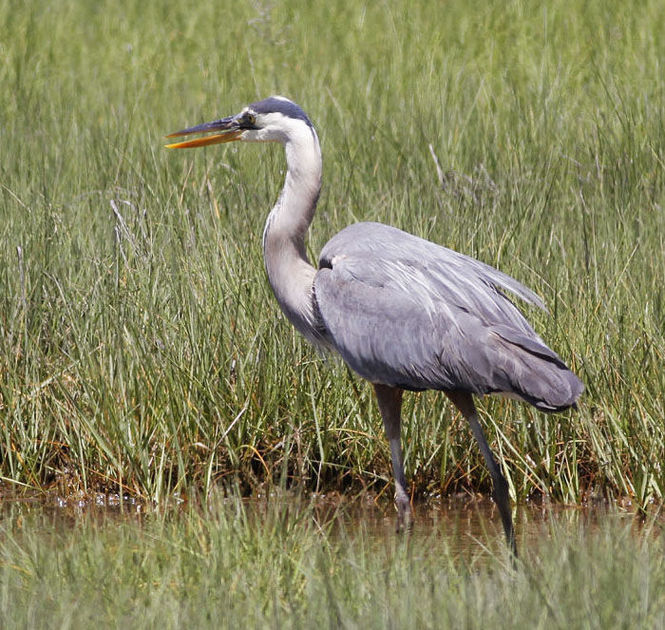heron: (162, 93, 582, 563)
